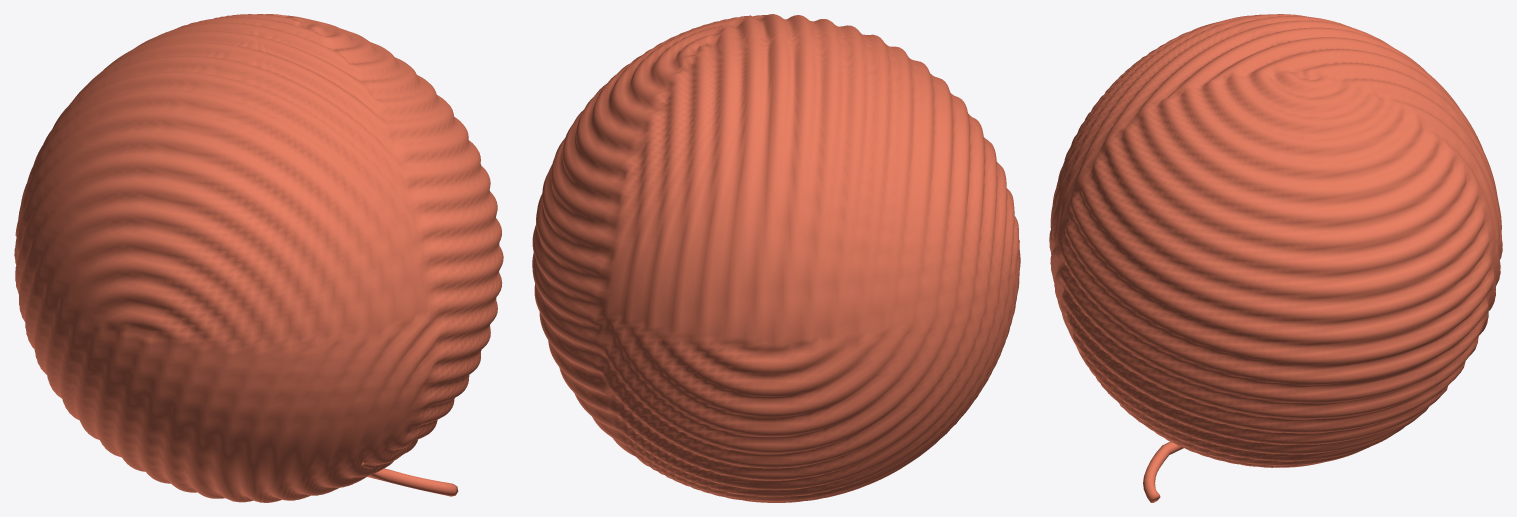
Rendered from ball.glb.
3 views of the same model, side by side, from view 1: azimuth 30°, elevation 25°; view 2: azimuth 150°, elevation 25°; view 3: azimuth 270°, elevation 25° (orthographic). The views are drawn at different scales.
Visible parts, largest first — view 1: wrapped_yarn_sphere, loose_yarn_end; view 2: wrapped_yarn_sphere; view 3: wrapped_yarn_sphere, loose_yarn_end.
Part boxes in pixels (x1=…): wrapped_yarn_sphere: x1=14, y1=14, x2=503, y2=502; loose_yarn_end: x1=360, y1=462, x2=458, y2=496; wrapped_yarn_sphere: x1=532, y1=14, x2=1020, y2=502; wrapped_yarn_sphere: x1=1049, y1=14, x2=1502, y2=467; loose_yarn_end: x1=1143, y1=441, x2=1183, y2=502.
Bounding box in the file's own units: 0.3597 × 0.36 × 0.3597.
